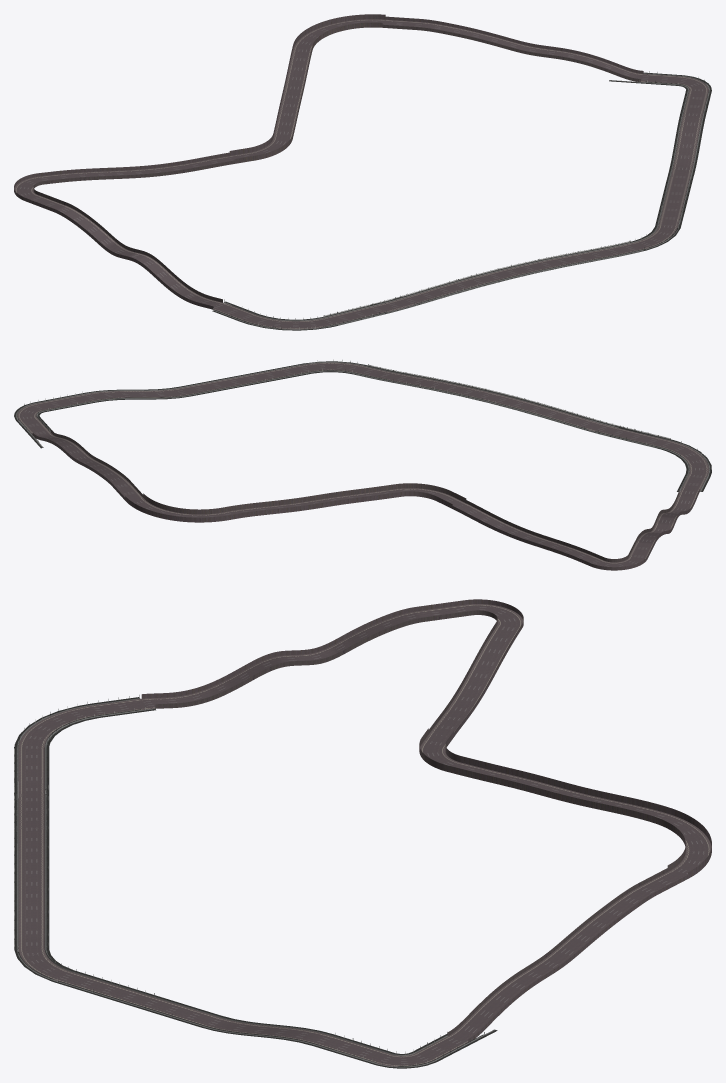
The model's file is road_track_02.fbx.
3 renders of one model, top to bottom at view 1: azimuth 30°, elevation 25°; view 2: azimuth 150°, elevation 25°; view 3: azimuth 270°, elevation 25°, orthographic. The views are drawn at different scales.
Parts seen in each view (by area): view 1: R01, R02, _roadside_001, R03; view 2: R01, R02, _roadside_001, R03; view 3: R01, R02, _roadside_001, R03.
Boxes of the visible parts, x1,y1,x2,y2 form: R01: (14,16,708,329); R02: (229,14,385,163); _roadside_001: (212,71,711,330); R03: (642,113,702,245); R01: (17,364,709,570); R02: (125,483,466,522); _roadside_001: (14,359,711,491); R03: (85,362,352,400); R01: (18,599,687,1066); R02: (419,728,711,878); _roadside_001: (14,695,497,1068); R03: (21,955,332,1044).
Bounding box in the file's own units: 113677 × 9202 × 77797.
Materials: 2 (2 with a texture image).
